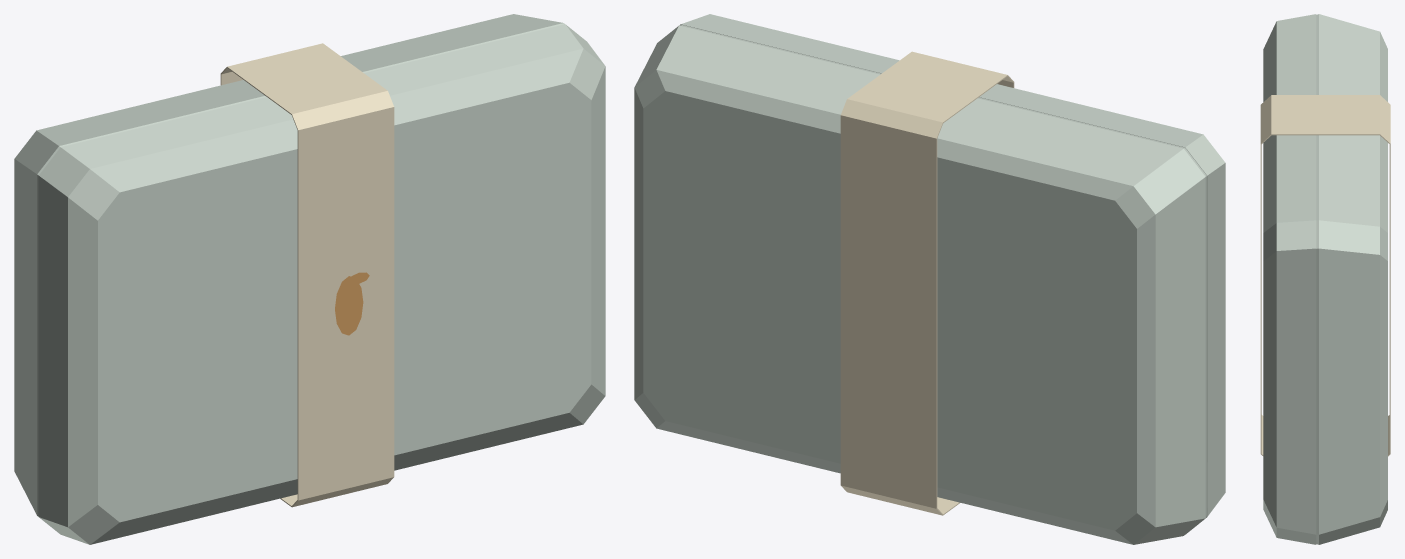
File: cannoli.glb
The picture shows the model from 3 angles, left to right: view 1: azimuth 30°, elevation 25°; view 2: azimuth 150°, elevation 25°; view 3: azimuth 270°, elevation 25°; orthographic projection. The views are drawn at different scales.
Visible parts, largest first — view 1: cannoli; view 2: cannoli; view 3: cannoli.
Boxes of the visible parts, x1,y1,x2,y2 form: cannoli: (14,14,605,544); cannoli: (634,14,1225,544); cannoli: (1260,14,1390,544).
Bounding box in the file's own units: 0.2 × 0.137 × 0.0514.
